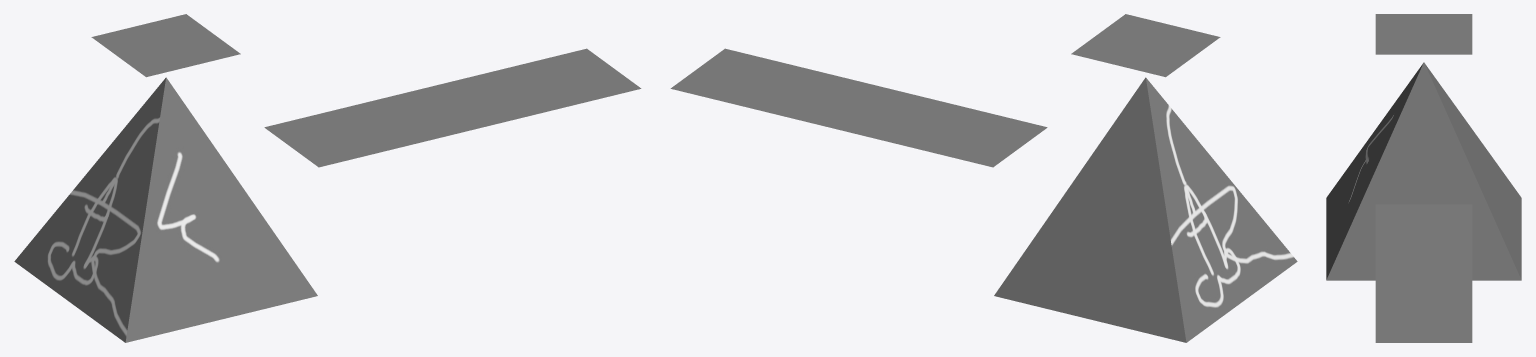
3 views of the same model, side by side, from view 1: azimuth 30°, elevation 25°; view 2: azimuth 150°, elevation 25°; view 3: azimuth 270°, elevation 25° (orthographic). The views are drawn at different scales.
Parts seen in each view (by area): view 1: no_alpha (×3); view 2: no_alpha (×3); view 3: no_alpha (×3).
Part boxes in pixels (<box>): no_alpha (×3): <box>14,14,641,342</box>; no_alpha (×3): <box>670,14,1297,342</box>; no_alpha (×3): <box>1326,14,1521,342</box>.
Bounding box in the file's own units: 2294 × 939 × 812.
3 materials, 3 textured.
